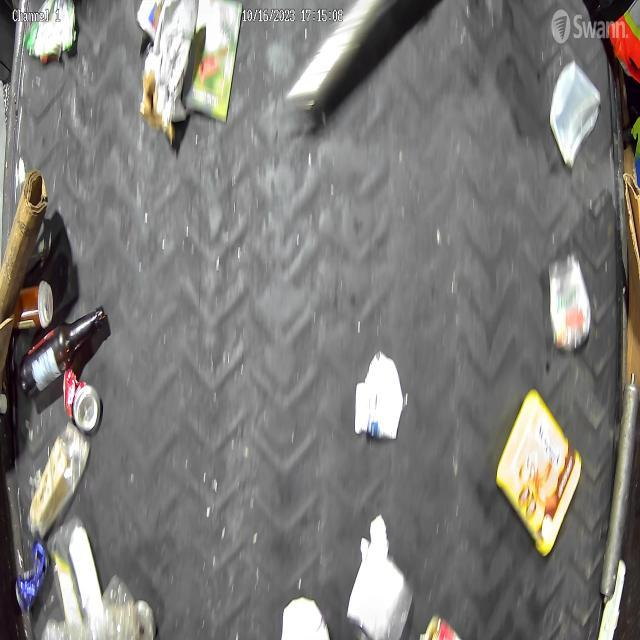can: (550, 252, 592, 358), (25, 3, 82, 62), (56, 369, 106, 431), (12, 534, 49, 610)
